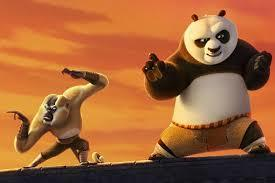KungfuPanda: (132, 9, 265, 163)
